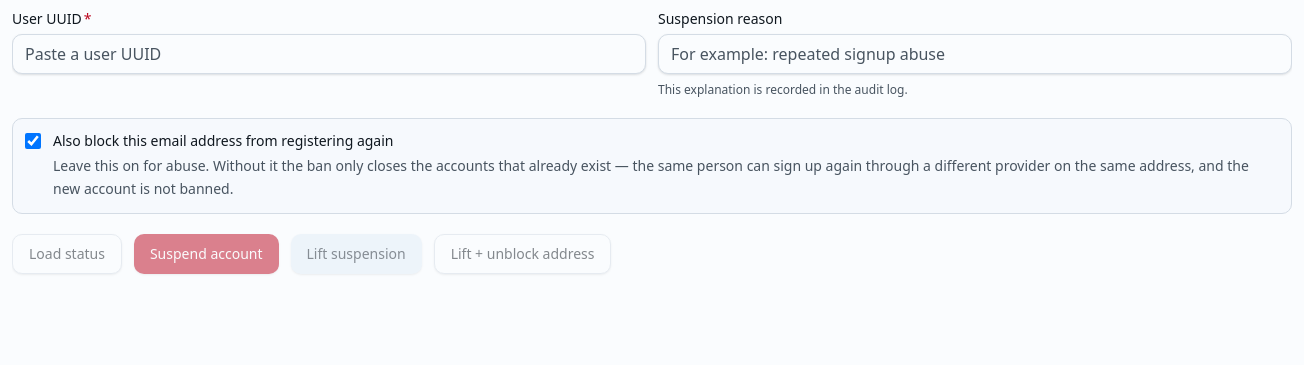
BanUserPanel › shows a catalogued message rather than raw error text
Type "u-1" into the field labelled "User UUID" at (329,54), box [12,34,646,74]
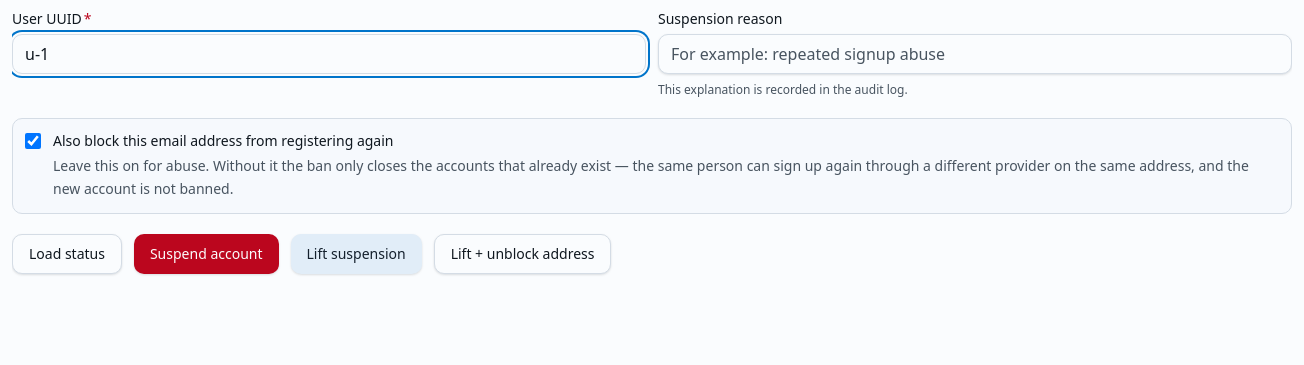
Click the button "Suspend account" at (206,254), box [134,234,278,274]
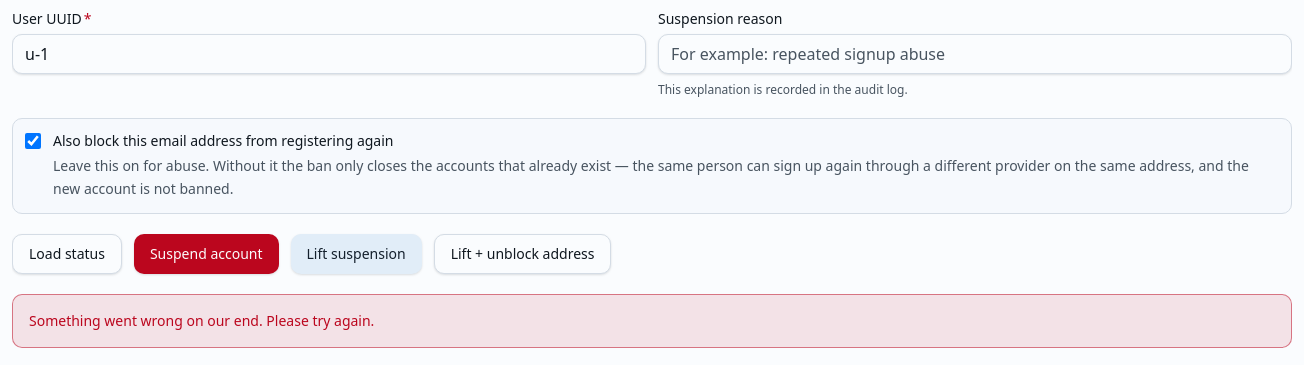
Check: the message does not show "connection terminated", box [12,294,1292,348]
Check: the message "Something went wrong on our end. Please try again." is shown, box [12,294,1292,348]
